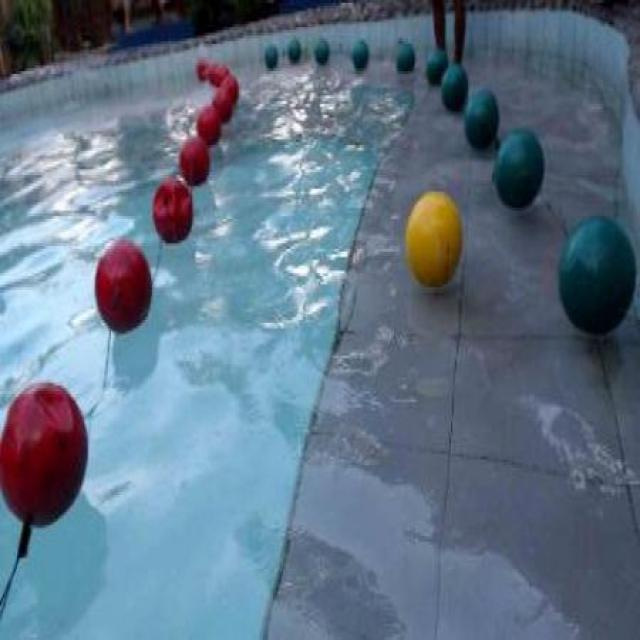buoy: (0, 381, 87, 526), (557, 213, 636, 335), (92, 236, 151, 333), (405, 189, 463, 287), (494, 126, 544, 212), (152, 176, 192, 245), (462, 87, 498, 148), (178, 133, 210, 184), (438, 61, 468, 108), (424, 42, 449, 83), (196, 106, 220, 146), (211, 86, 233, 122), (394, 39, 415, 71), (352, 36, 368, 68), (314, 38, 329, 66), (263, 45, 279, 70), (288, 39, 299, 65)
